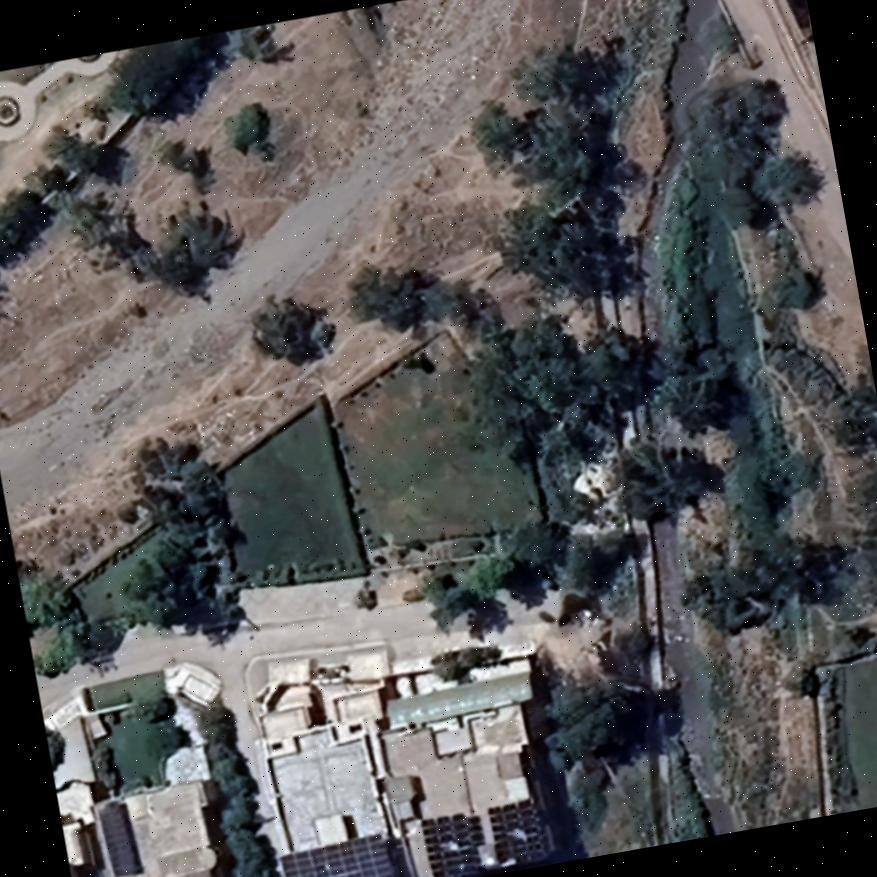Solarpanel: (276, 830, 397, 877), (419, 811, 490, 877), (487, 795, 549, 869), (95, 800, 141, 877)
